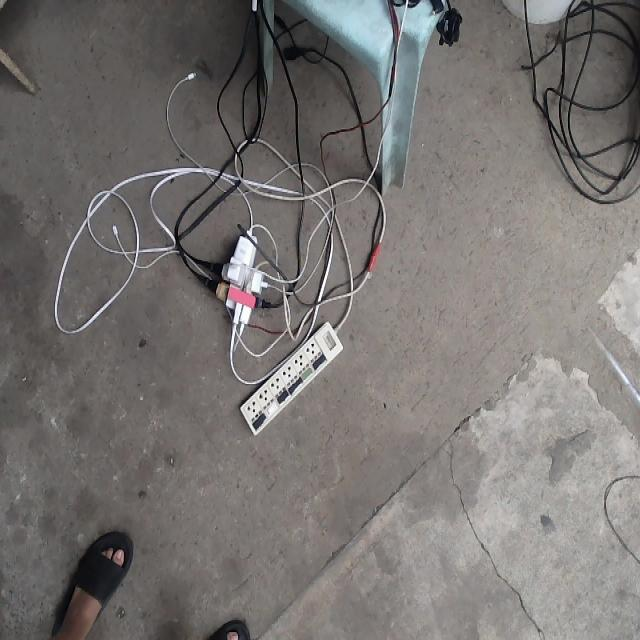-: (214, 226, 269, 326)
